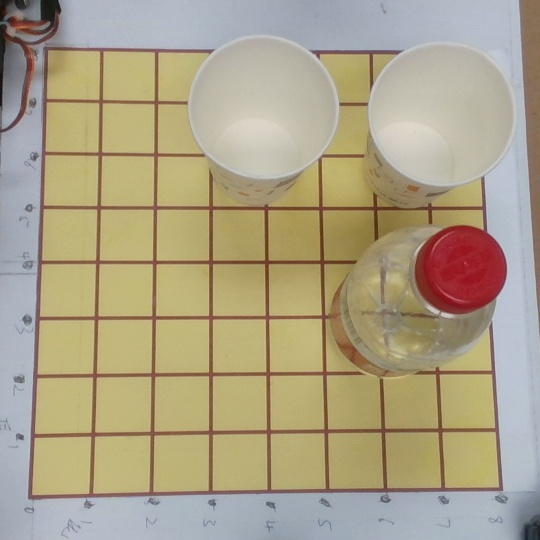bottle: (305, 225, 507, 389)
cup: (151, 33, 340, 217), (350, 39, 513, 222)
